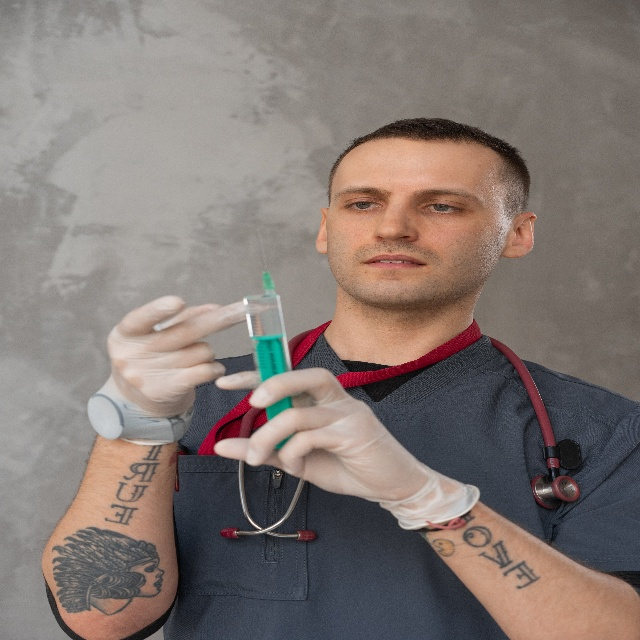Guantes: (214, 367, 481, 531), (87, 295, 248, 445)
Sin_guantes: (213, 367, 413, 501), (106, 296, 248, 415)
